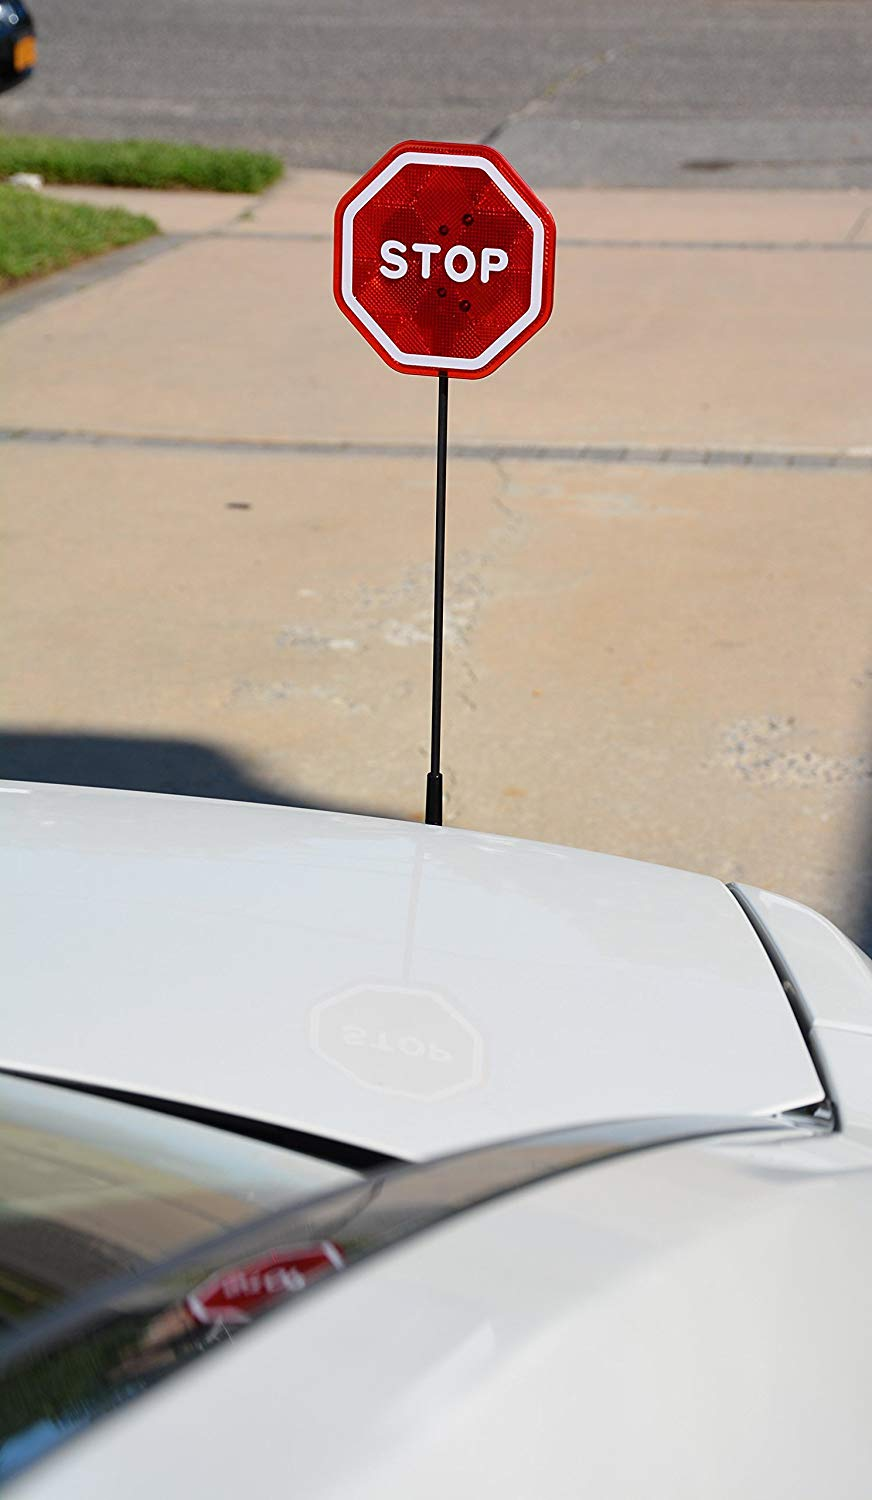stopsign: (334, 141, 558, 370)
